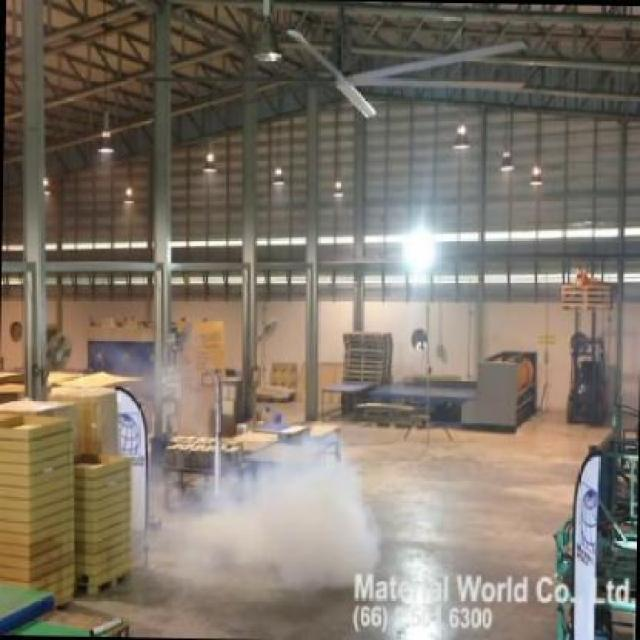fire: (159, 449, 384, 594)
